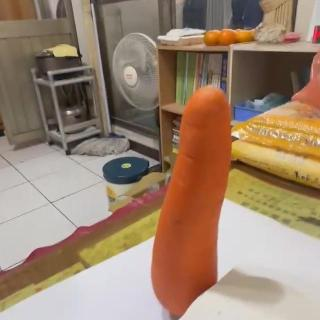carrot: (150, 84, 234, 316)
